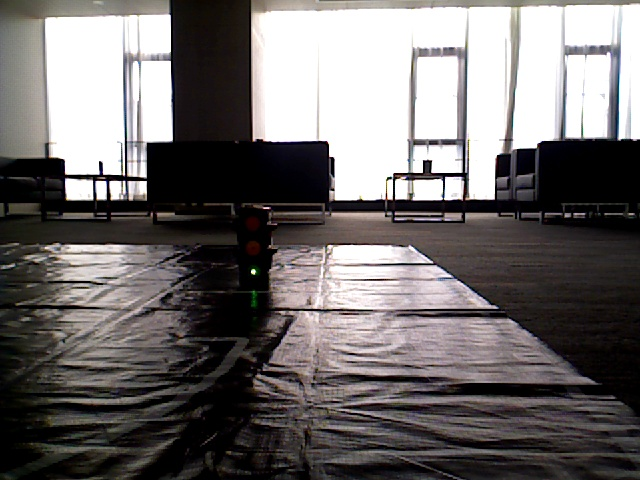green: (242, 206, 270, 278)
